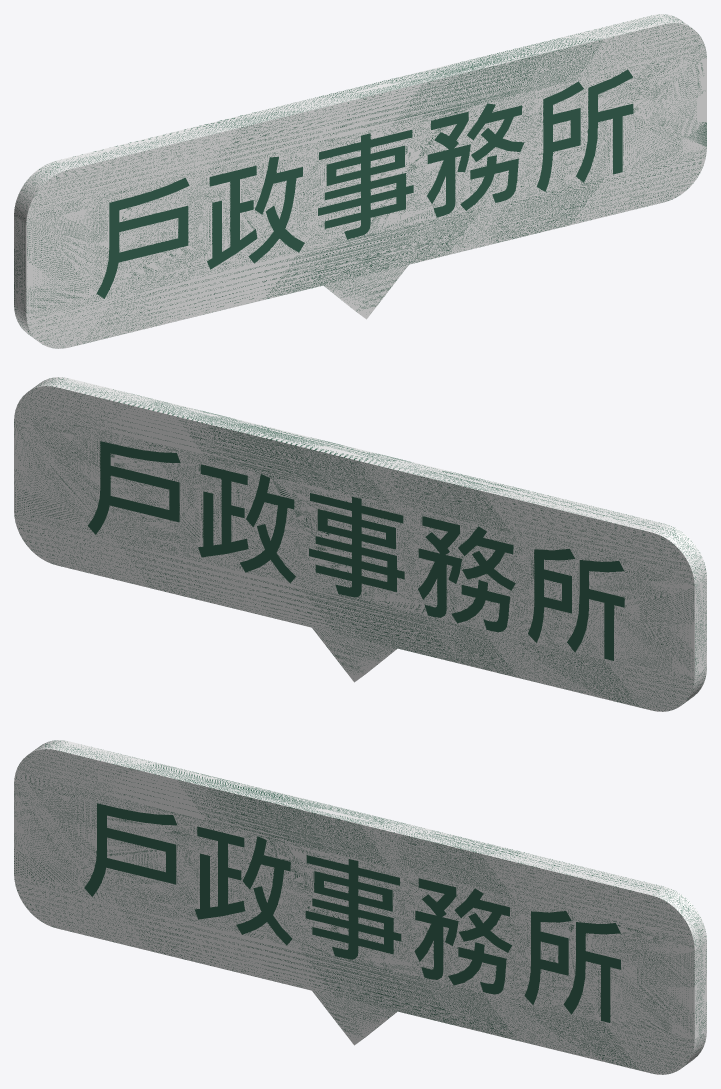
Rendered from titleACtw.dae.
The picture shows the model from 3 angles, top to bottom: view 1: azimuth 30°, elevation 25°; view 2: azimuth 150°, elevation 25°; view 3: azimuth 330°, elevation 25°; orthographic projection.
Visible parts, largest first — view 1: 差異 (×2), instance_0 (×9); view 2: 差異 (×2), instance_1 (×9); view 3: 差異 (×2), instance_0 (×9).
Boxes of the visible parts, x1,y1,x2,y2 form: 差異 (×2): [14, 14, 706, 348]; instance_0 (×9): [96, 69, 633, 298]; 差異 (×2): [14, 377, 706, 711]; instance_1 (×9): [87, 441, 624, 660]; 差異 (×2): [14, 740, 706, 1074]; instance_0 (×9): [84, 803, 620, 1022].
Size of the model in its own units: 630 by 19.69 by 197.
